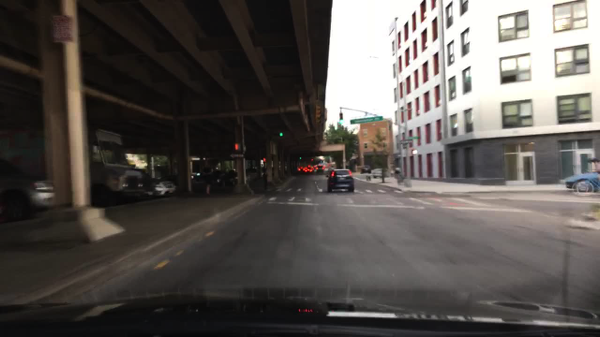car: (0, 155, 54, 220), (564, 169, 599, 194), (327, 169, 356, 194), (143, 174, 175, 195), (173, 174, 208, 192), (224, 169, 247, 187), (208, 170, 227, 189), (242, 168, 260, 185), (372, 168, 387, 181), (359, 165, 370, 175), (314, 165, 325, 174)
traffic light: (316, 105, 321, 122), (339, 113, 343, 124), (278, 131, 284, 138)
traffic sign: (53, 16, 74, 42), (350, 115, 383, 124), (229, 153, 244, 160), (401, 140, 411, 144), (408, 136, 419, 139)
truck: (0, 127, 148, 205)
